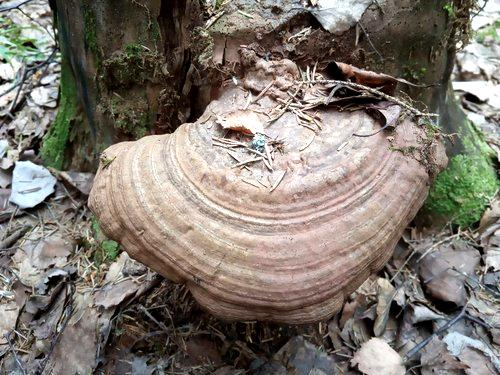Ganoderma - Fruit Body: (86, 61, 442, 332)
